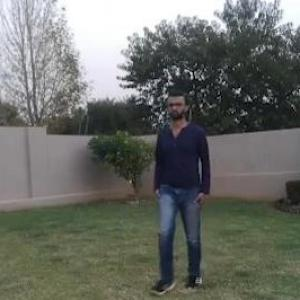follow: (152, 92, 206, 272)
